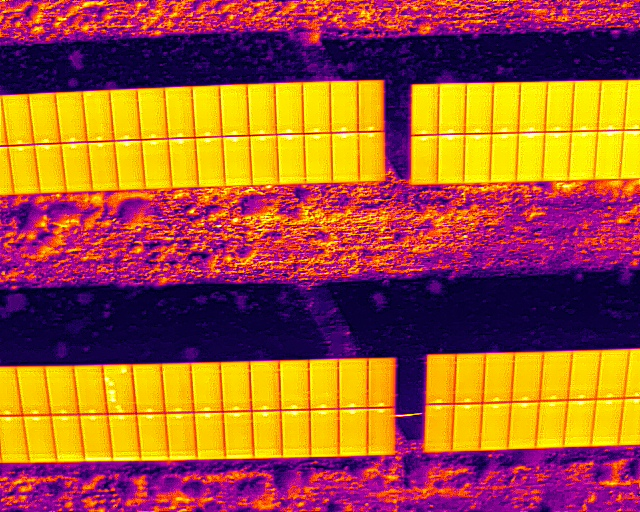multi_spot: (101, 363, 137, 415)
photovoltaic_panels: (3, 80, 387, 196), (4, 356, 399, 464), (407, 79, 635, 185), (423, 347, 638, 454)
